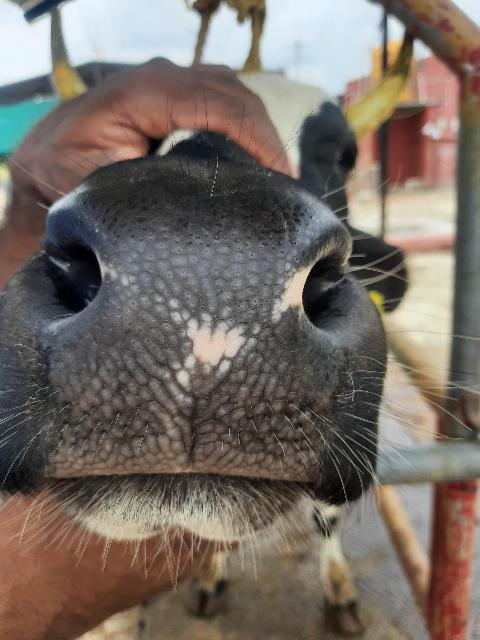Muzzle: (64, 199, 330, 475)
